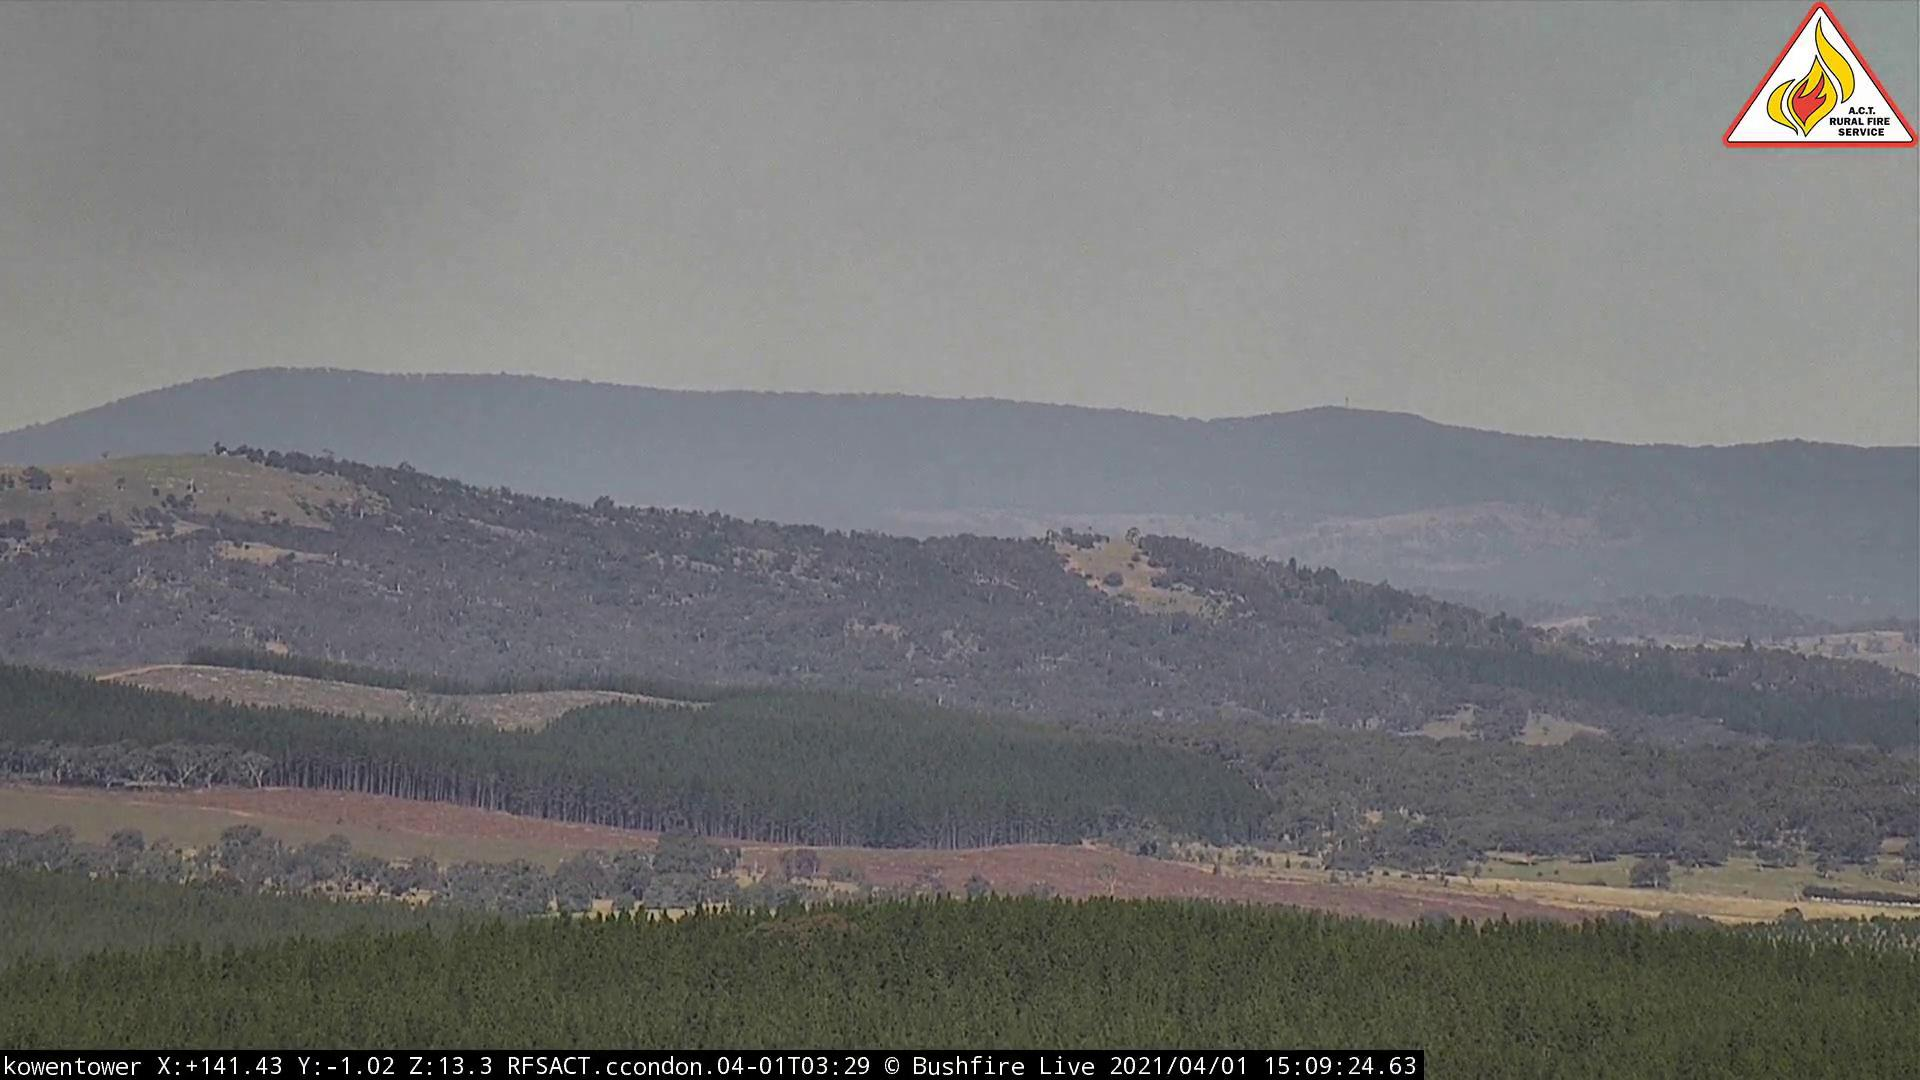Smoke: (3, 3, 756, 509)
